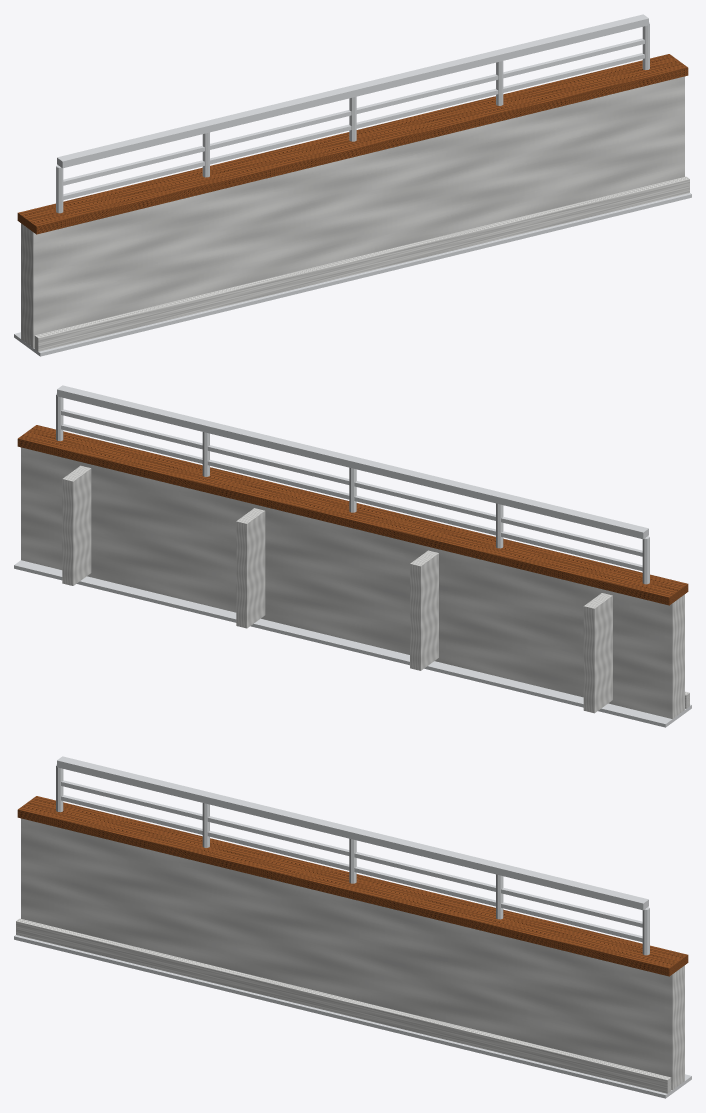
The model's file is cruise-ship-deck-and-lounge-cruise-ship-deck-and-loung-6639c409__38410.glb.
3 renders of one model, top to bottom at view 1: azimuth 30°, elevation 25°; view 2: azimuth 150°, elevation 25°; view 3: azimuth 330°, elevation 25°, orthographic.
Parts seen in each view (by area): view 1: cruise-ship-deck-and-lounge-bulwark-and-railing-run; view 2: cruise-ship-deck-and-lounge-bulwark-and-railing-run; view 3: cruise-ship-deck-and-lounge-bulwark-and-railing-run.
Part boxes in pixels (left/top/right/bottom): cruise-ship-deck-and-lounge-bulwark-and-railing-run: left=14, top=14, right=691, bottom=356; cruise-ship-deck-and-lounge-bulwark-and-railing-run: left=14, top=385, right=691, bottom=727; cruise-ship-deck-and-lounge-bulwark-and-railing-run: left=14, top=756, right=691, bottom=1098.
Size of the model in its own units: 6 by 1.58 by 0.5998.
Materials: 3 (2 with a texture image).
